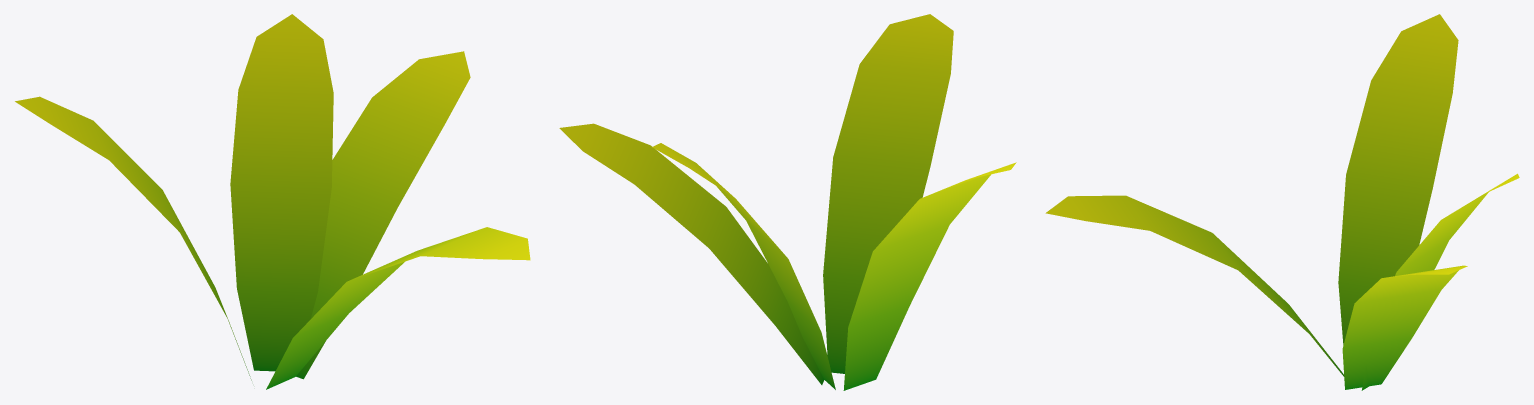
File: grass_leaf_accent.glb
3 renders of one model, left to right at view 1: azimuth 30°, elevation 25°; view 2: azimuth 150°, elevation 25°; view 3: azimuth 270°, elevation 25°, orthographic. The views are drawn at different scales.
Visible parts, largest first — view 1: grass_leaf_accent; view 2: grass_leaf_accent; view 3: grass_leaf_accent.
Boxes of the visible parts, left/top/right/bottom form: grass_leaf_accent: left=15, top=14, right=530, bottom=389; grass_leaf_accent: left=559, top=14, right=1016, bottom=390; grass_leaf_accent: left=1045, top=14, right=1519, bottom=390.
Bounding box in the file's own units: 0.2372 × 0.1484 × 0.2356.
